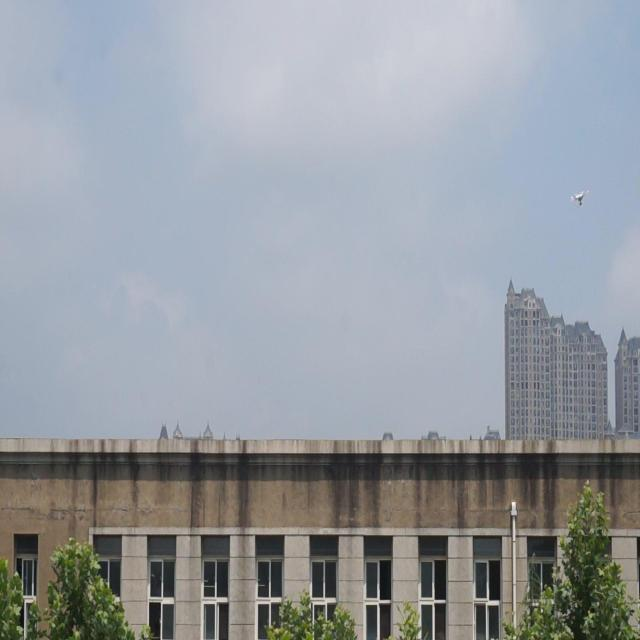drone: (569, 188, 589, 209)
